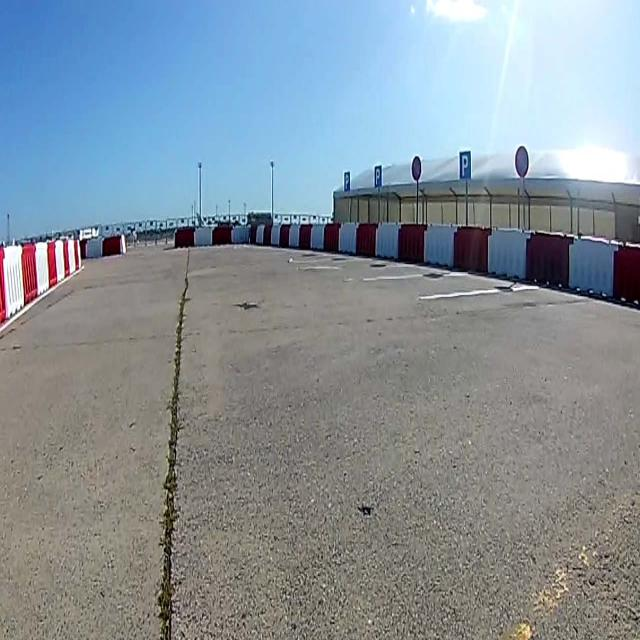park: (458, 150, 472, 180), (373, 164, 382, 188), (344, 172, 351, 192)
parkyasak: (514, 146, 528, 178), (412, 156, 422, 182)
